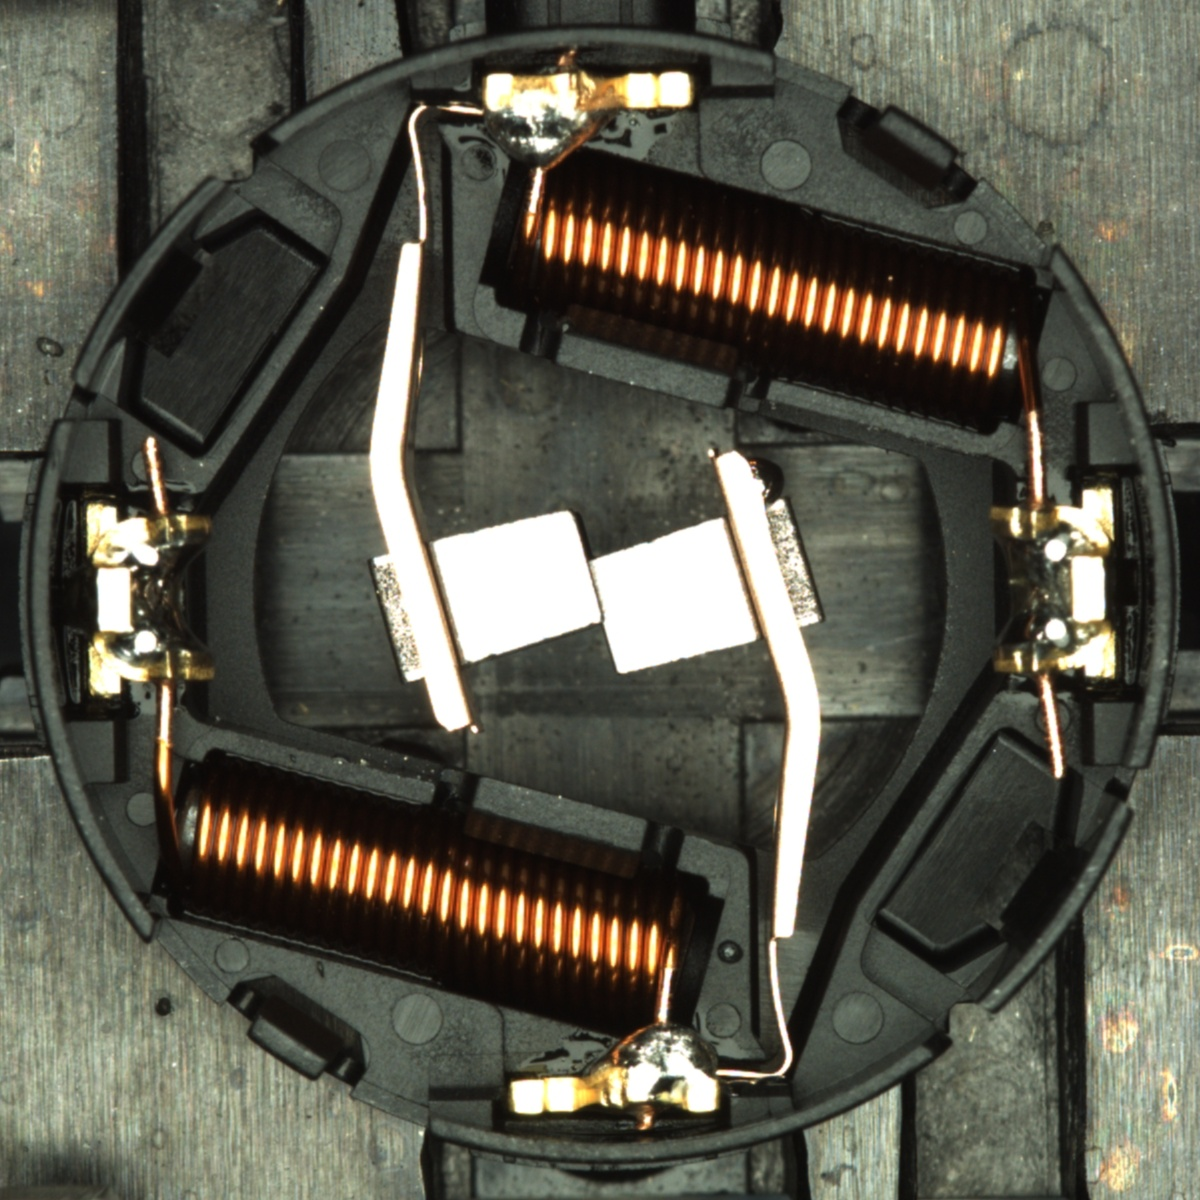1: (258, 55, 487, 279), (716, 953, 945, 1177)
2: (716, 55, 945, 279), (258, 953, 487, 1177)
3: (29, 279, 258, 503), (945, 729, 1175, 953)
4: (258, 279, 487, 503), (716, 729, 945, 953)
5: (487, 167, 716, 391), (487, 841, 716, 1065)
6: (716, 279, 945, 503), (258, 729, 487, 953)
7: (945, 279, 1175, 503), (29, 729, 258, 953)
chau_dien: (982, 486, 1122, 686), (79, 498, 219, 698)
hat_chi: (746, 457, 785, 507)
tay_choi: (479, 69, 699, 174), (508, 1019, 722, 1116)
thanh_de: (953, 786, 1141, 1030), (58, 164, 244, 403)
